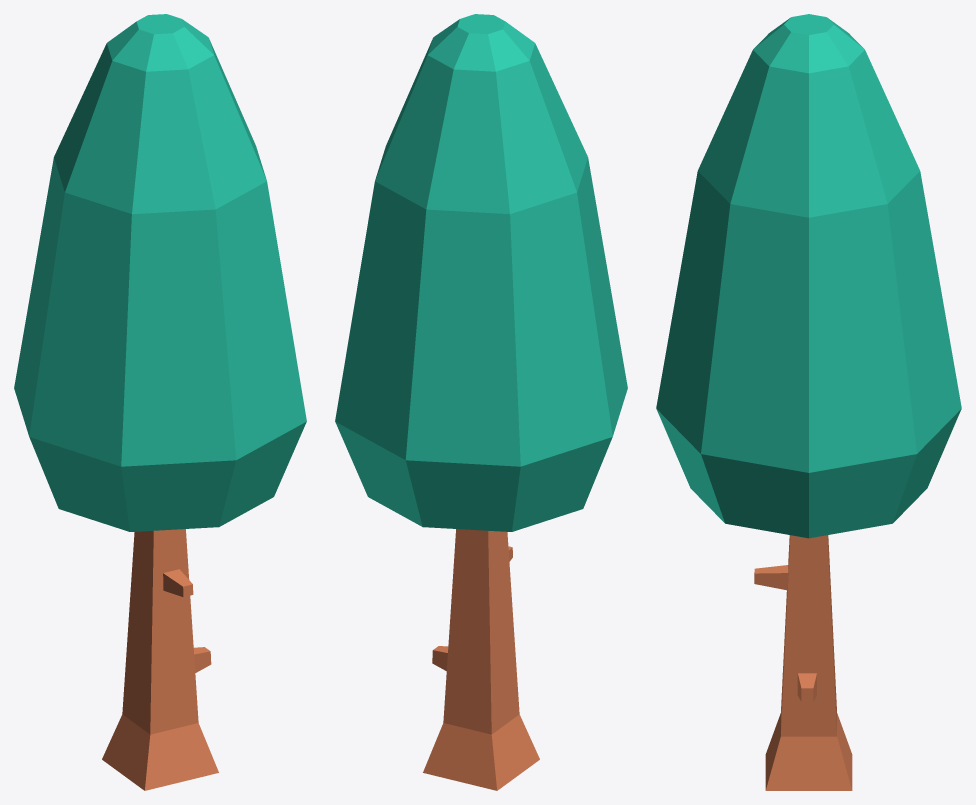
Rendered from tree_cone.dae.
The picture shows the model from 3 angles, left to right: view 1: azimuth 30°, elevation 25°; view 2: azimuth 150°, elevation 25°; view 3: azimuth 270°, elevation 25°; orthographic projection.
Visible parts, largest first — view 1: tree_cone; view 2: tree_cone; view 3: tree_cone.
Part boxes in pixels (left/top/right/bottom): tree_cone: left=14, top=14, right=306, bottom=790; tree_cone: left=335, top=14, right=627, bottom=790; tree_cone: left=656, top=14, right=961, bottom=790.
Bounding box in the file's own units: 0.5297 × 1.43 × 0.5297.
